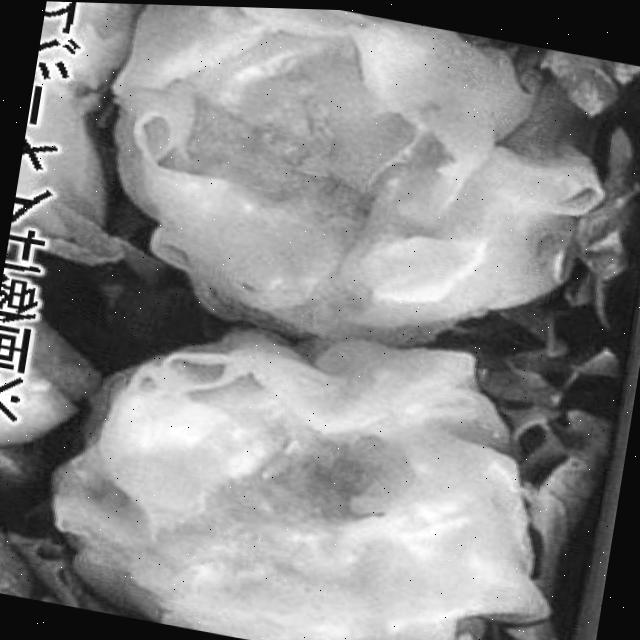带馅早点: (36, 1, 640, 640)
